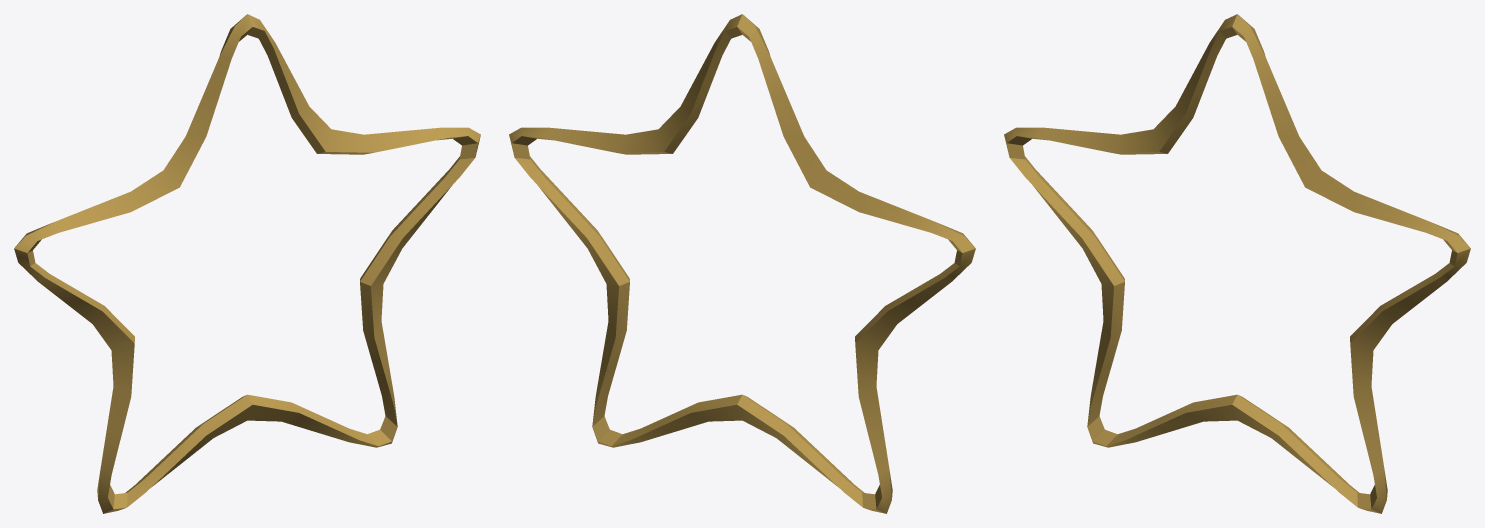
Rendered from cc0-star-outline-lod0.glb.
3 renders of one model, left to right at view 1: azimuth 30°, elevation 25°; view 2: azimuth 150°, elevation 25°; view 3: azimuth 330°, elevation 25°, orthographic.
Visible parts, largest first — view 1: part_0; view 2: part_0; view 3: part_0.
Boxes of the visible parts, x1,y1,x2,y2 form: part_0: [14, 14, 480, 513]; part_0: [509, 14, 975, 513]; part_0: [1004, 14, 1470, 513].
Size of the model in its own units: 1.51 by 1.44 by 0.0594.
